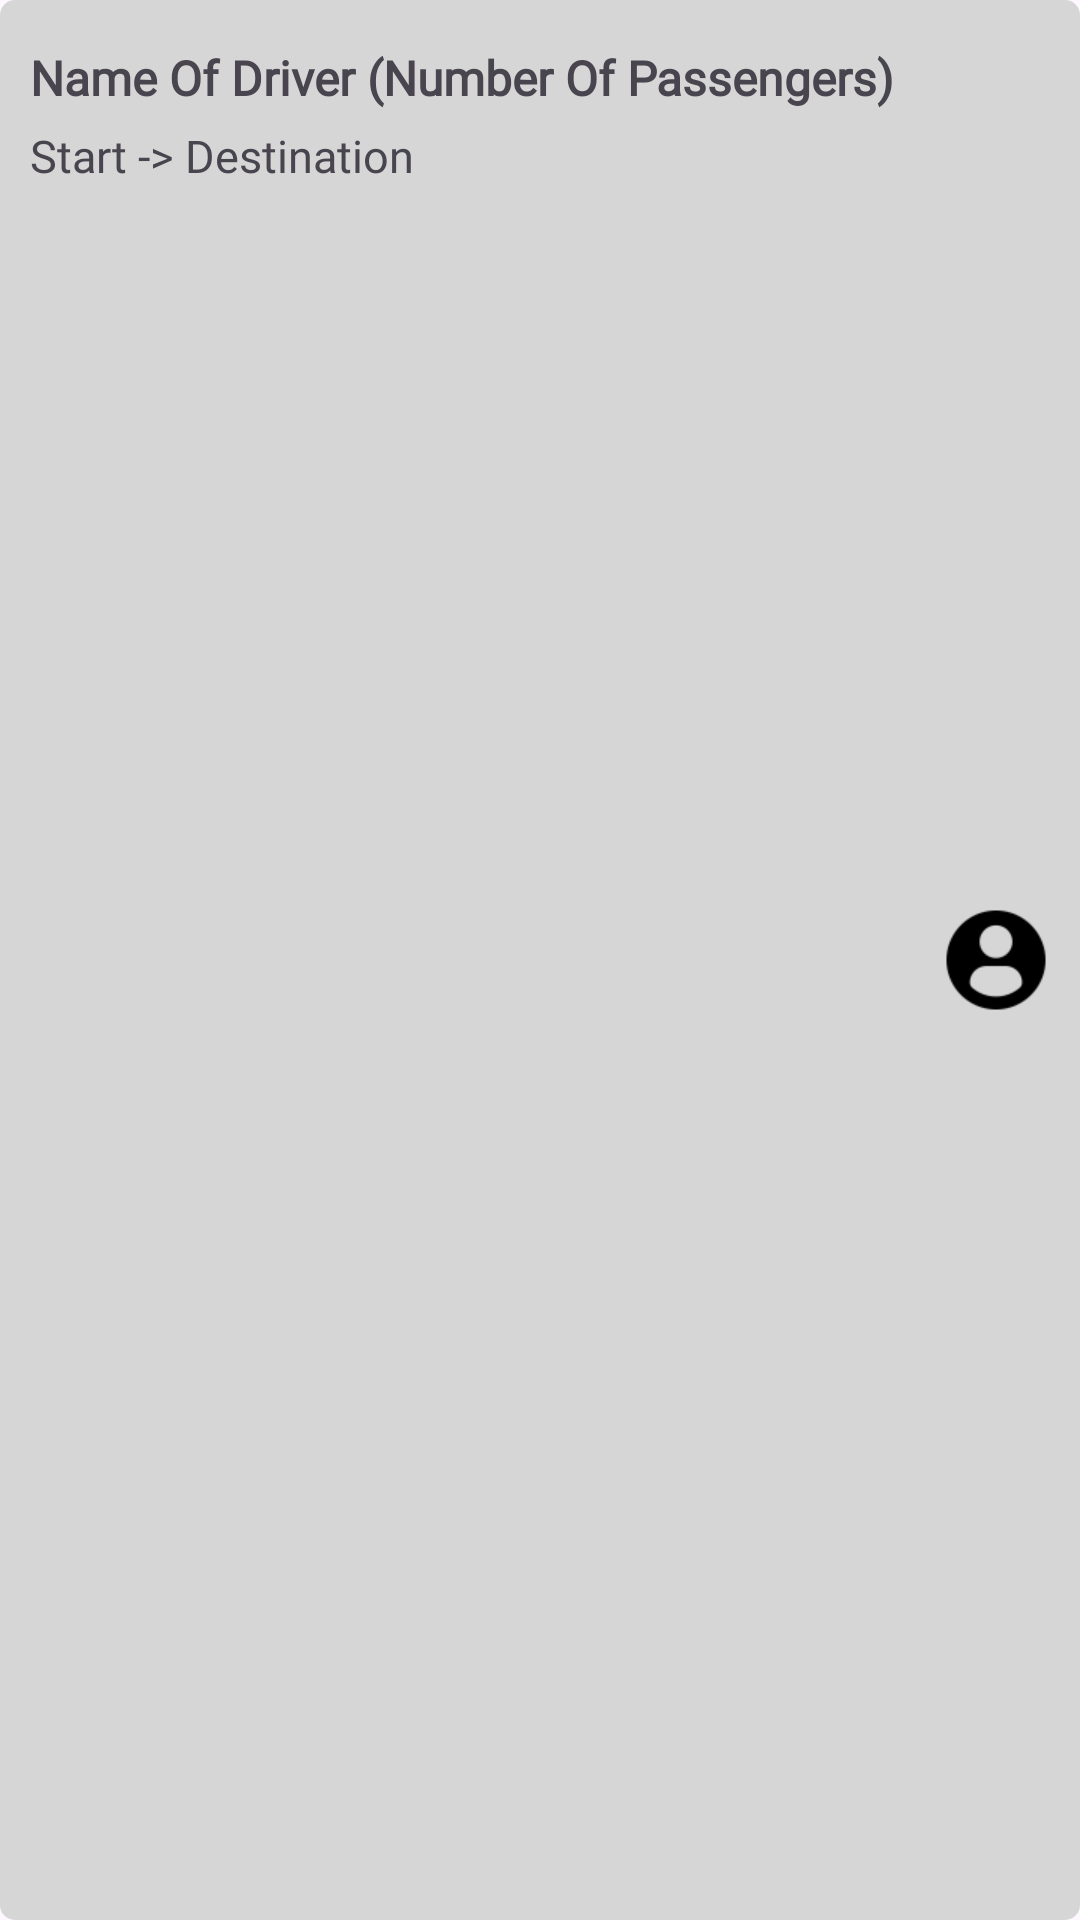

Where icons sit on this 1080px x 1920px app screen, as BBox(x1, y1, x2, y2):
profile: BBox(946, 910, 1046, 1010)
